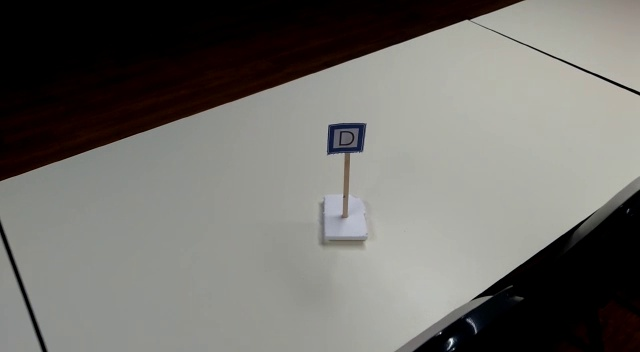durak: (327, 124, 362, 153)
